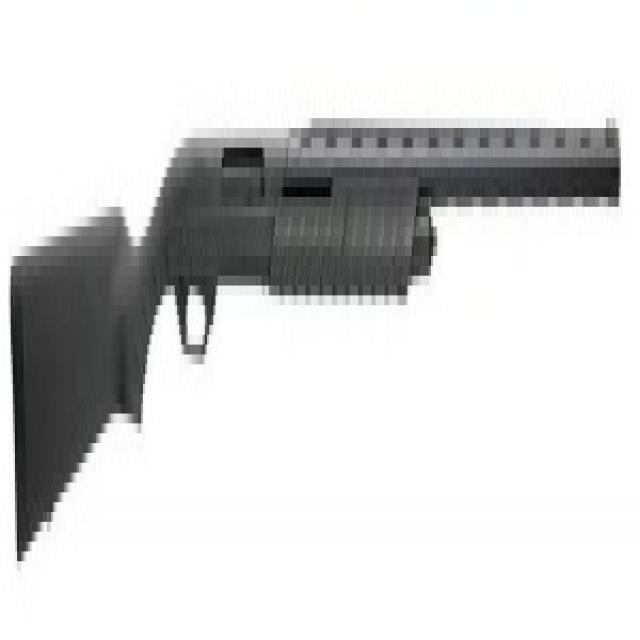rifle: (7, 81, 626, 583)
